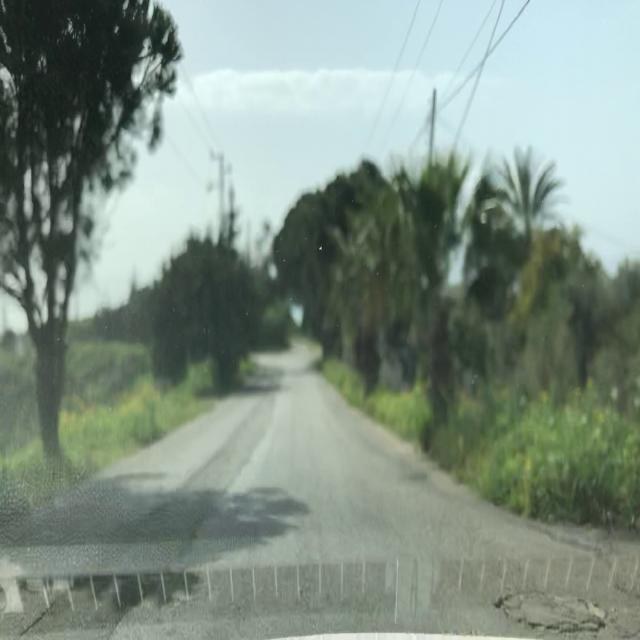Pothole: (490, 578, 612, 636)
